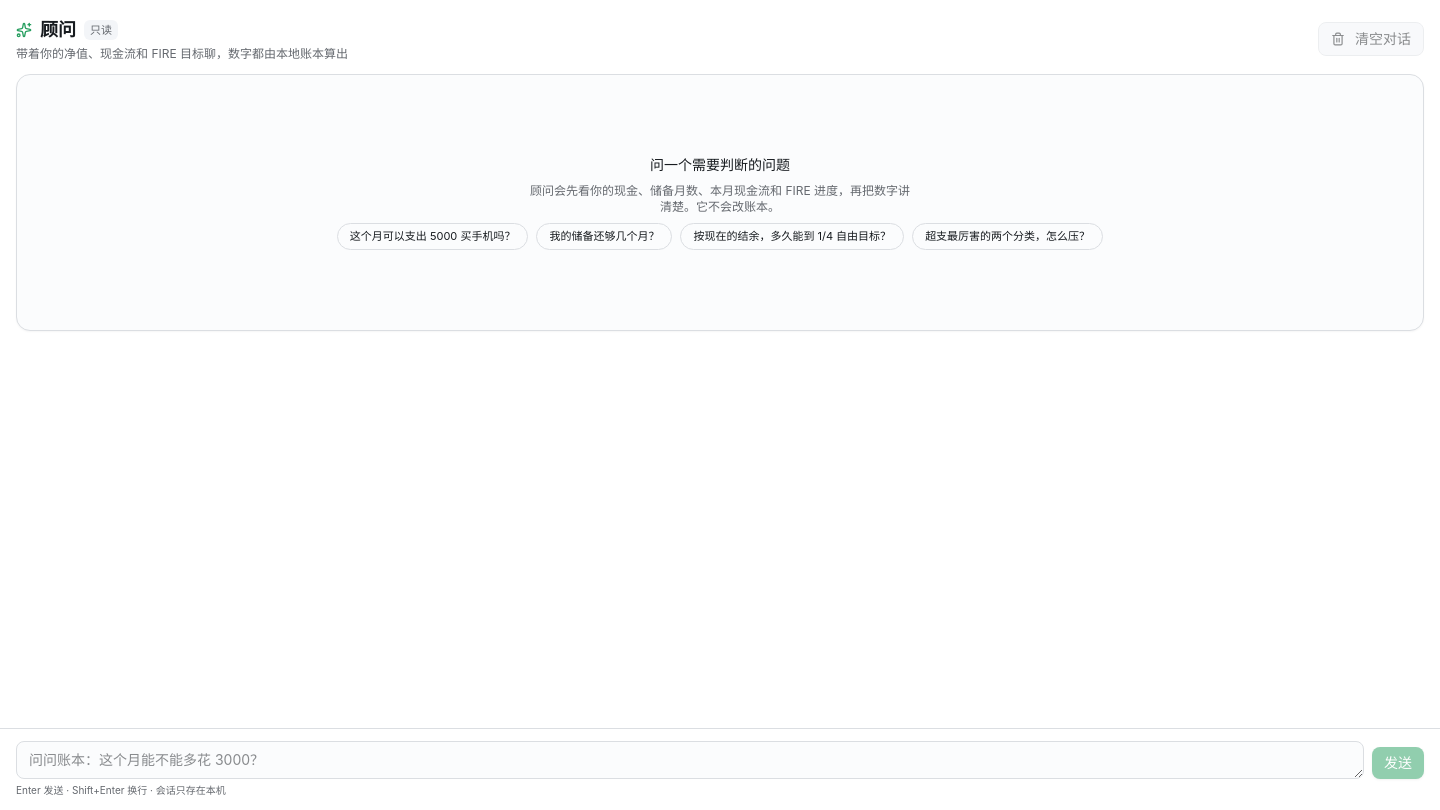
Test: Advisor › sends the question with the turns so far and renders the answer
Type "这个月可以支出 5000 买手机吗？" into the text box with placeholder "问问账本：这个月能不能多花 3000？" at (690, 760), box left=16, top=741, right=1364, bottom=779
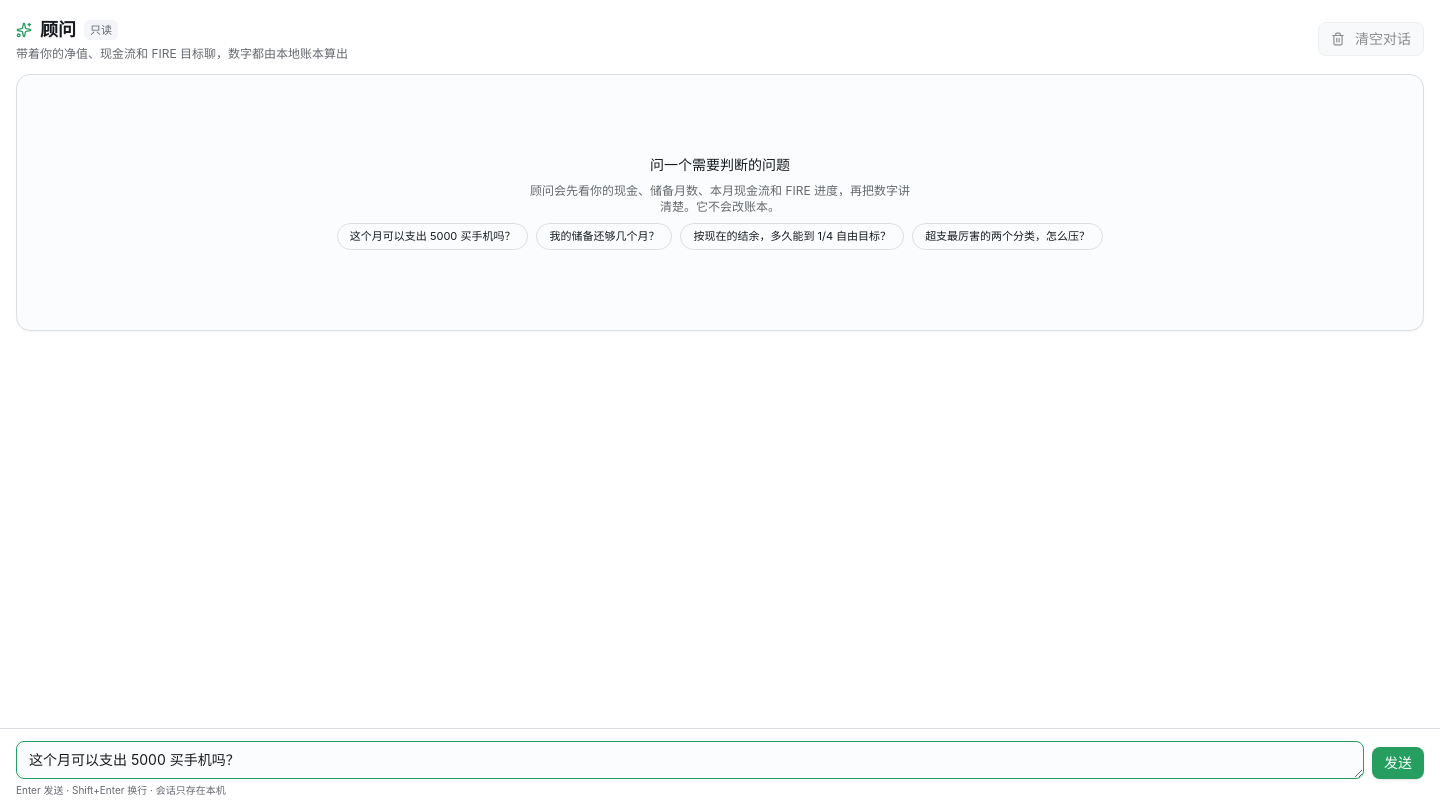
Click the button "发送" at (1398, 763), box left=1372, top=747, right=1424, bottom=779
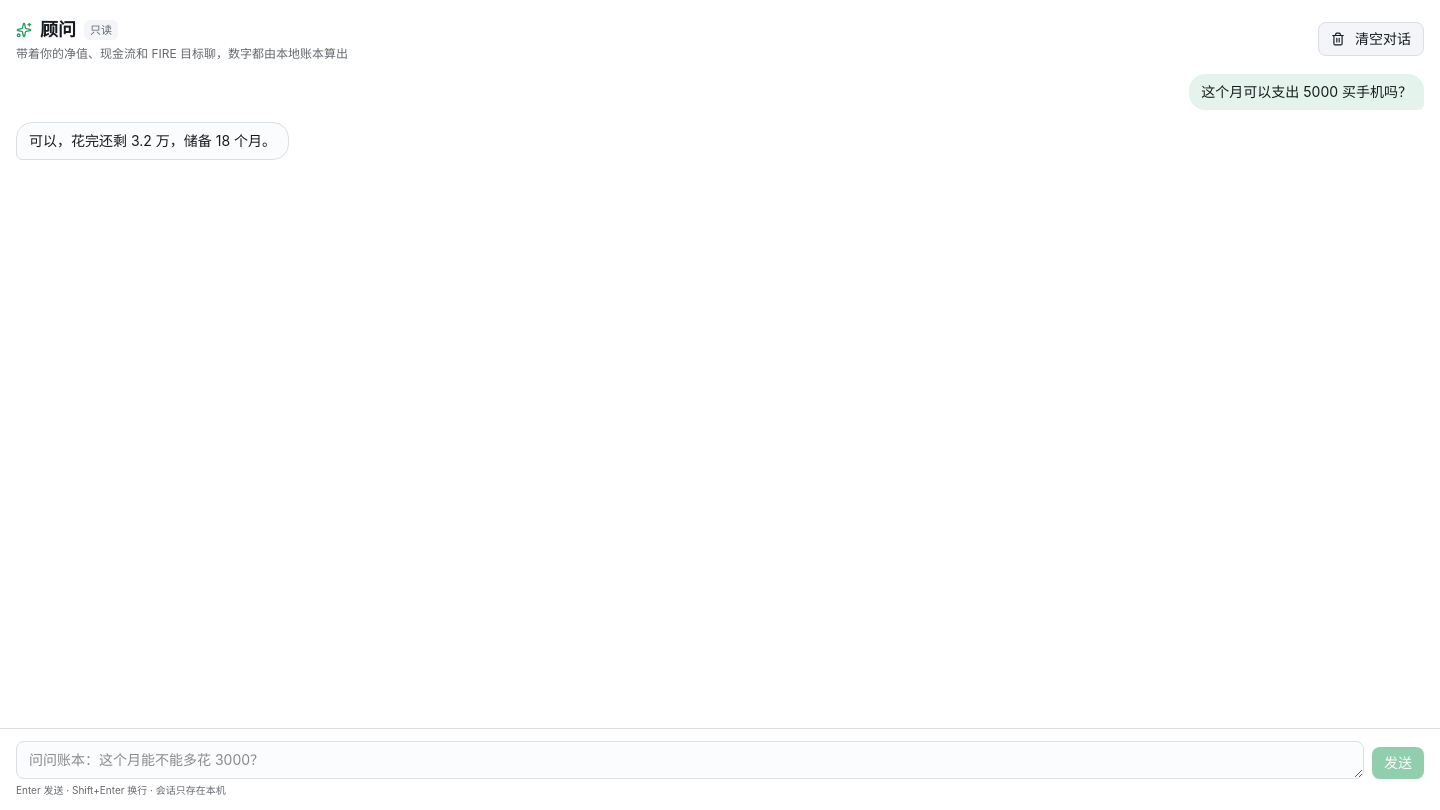
Check: the text "这个月可以支出 5000 买手机吗？" is shown, box left=1189, top=74, right=1424, bottom=110
Check: the text "可以，花完还剩 3.2 万，储备 18 个月。" is shown, box left=16, top=122, right=289, bottom=160
